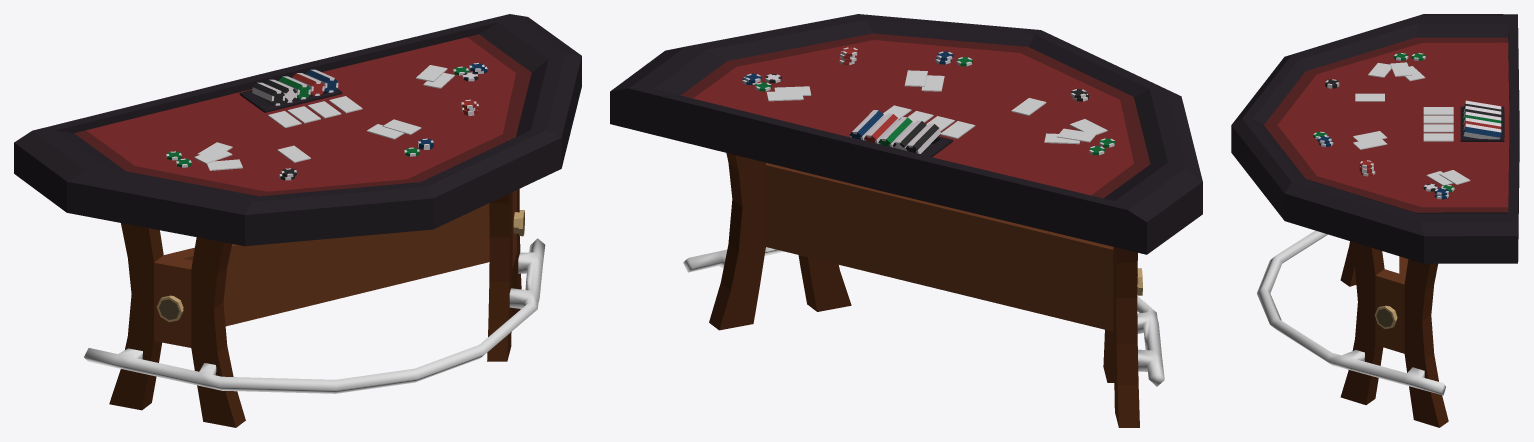
File: BlackJack-Table_01.fbx
3 views of the same model, side by side, from view 1: azimuth 30°, elevation 25°; view 2: azimuth 150°, elevation 25°; view 3: azimuth 270°, elevation 25° (orthographic). The views are drawn at different scales.
Parts seen in each view (by area): view 1: BlackJackTable, TableLegs, FootRest, TableClutter, ChipStack; view 2: BlackJackTable, TableLegs, TableClutter, ChipStack, FootRest; view 3: BlackJackTable, TableLegs, TableClutter, FootRest, ChipStack.
Part boxes in pixels (x1,y1,x2,y2): BlackJackTable: (14,14,581,246); TableLegs: (109,189,524,427); FootRest: (84,238,545,393); TableClutter: (166,63,487,180); ChipStack: (252,69,338,105); BlackJackTable: (610,14,1202,254); TableLegs: (709,153,1142,427); TableClutter: (742,47,1115,155); ChipStack: (849,110,940,153); FootRest: (683,247,1164,386); BlackJackTable: (1231,14,1519,263); TableLegs: (1340,241,1448,427); TableClutter: (1313,53,1470,199); FootRest: (1257,230,1445,395); ChipStack: (1463,100,1501,139).
Bounding box in the file's own units: 2.22 × 1.06 × 1.22.
